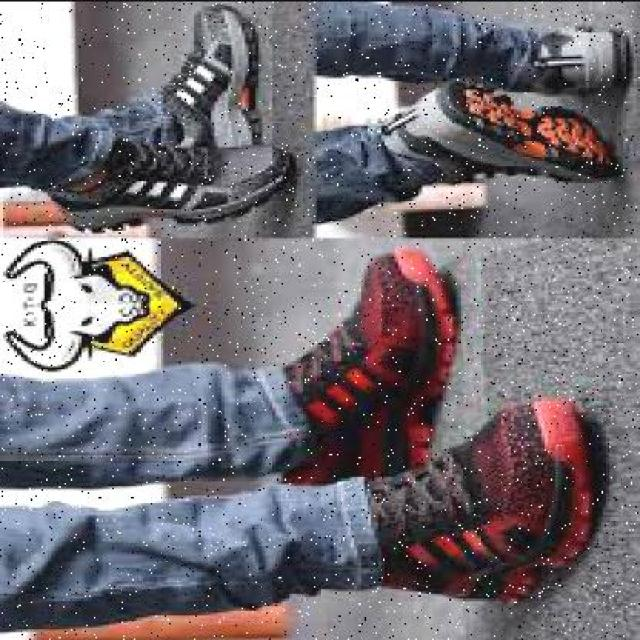shoes: (346, 408, 597, 601), (262, 248, 442, 481), (61, 140, 277, 225), (387, 97, 608, 180), (172, 4, 255, 148), (526, 18, 622, 93)
